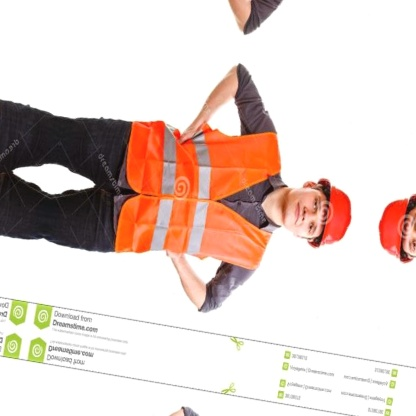red: (304, 171, 362, 265)
vest: (104, 101, 294, 288)
